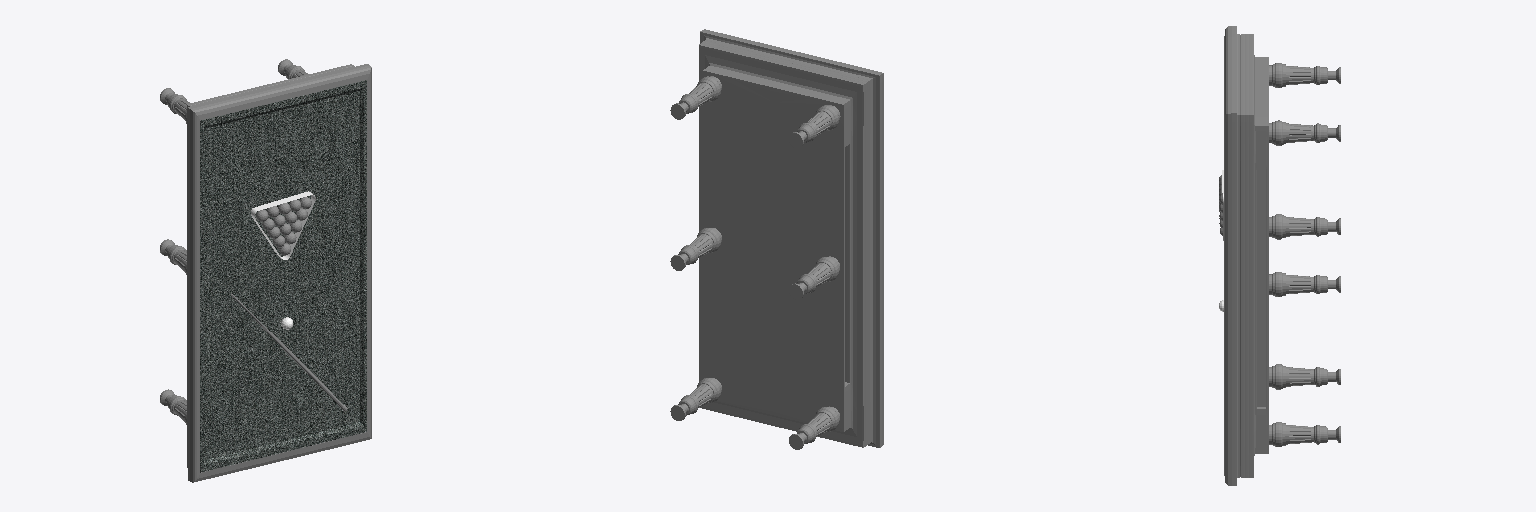
3 renders of one model, left to right at view 1: azimuth 30°, elevation 25°; view 2: azimuth 150°, elevation 25°; view 3: azimuth 270°, elevation 25°, orthographic.
Parts seen in each view (by area): view 1: Object001, Default, triangle, Object003; view 2: Default; view 3: Default.
Boxes of the visible parts, <box> form: Object001: <box>200,80,366,472</box>; Default: <box>160,59,371,482</box>; triangle: <box>251,191,315,259</box>; Object003: <box>231,293,347,411</box>; Default: <box>670,29,883,449</box>; Default: <box>1224,26,1340,485</box>.
Bounding box in the file's own units: 5.45 × 10.79 × 3.22.
Materials: 19 (2 with a texture image).